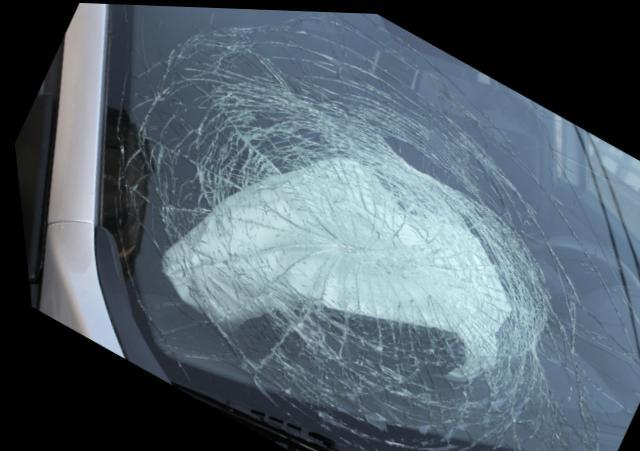glass shatter: (97, 3, 640, 451)
